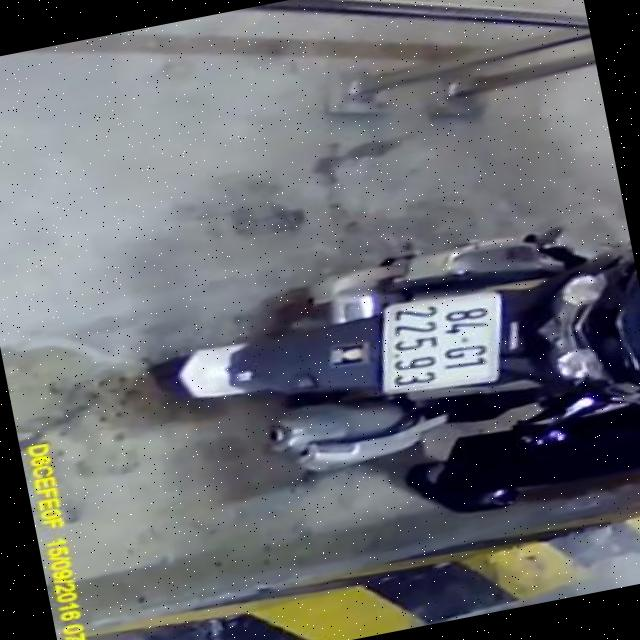license_plate: (366, 286, 520, 402)
